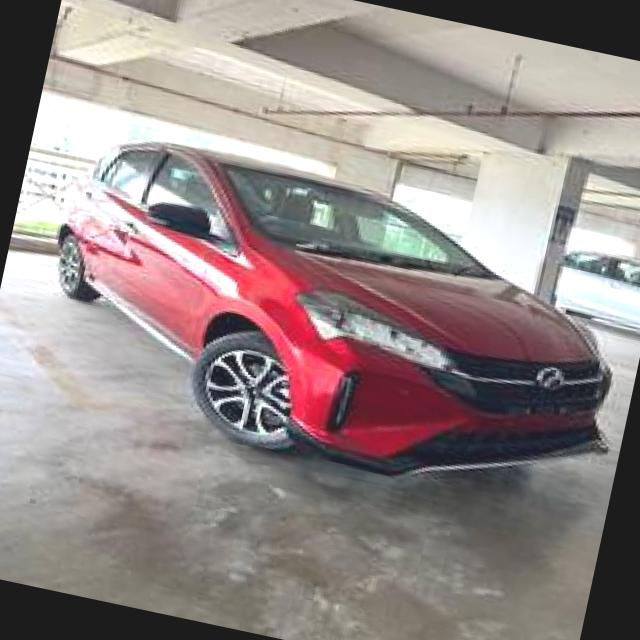PeroduaMyvi: (18, 116, 640, 519)
